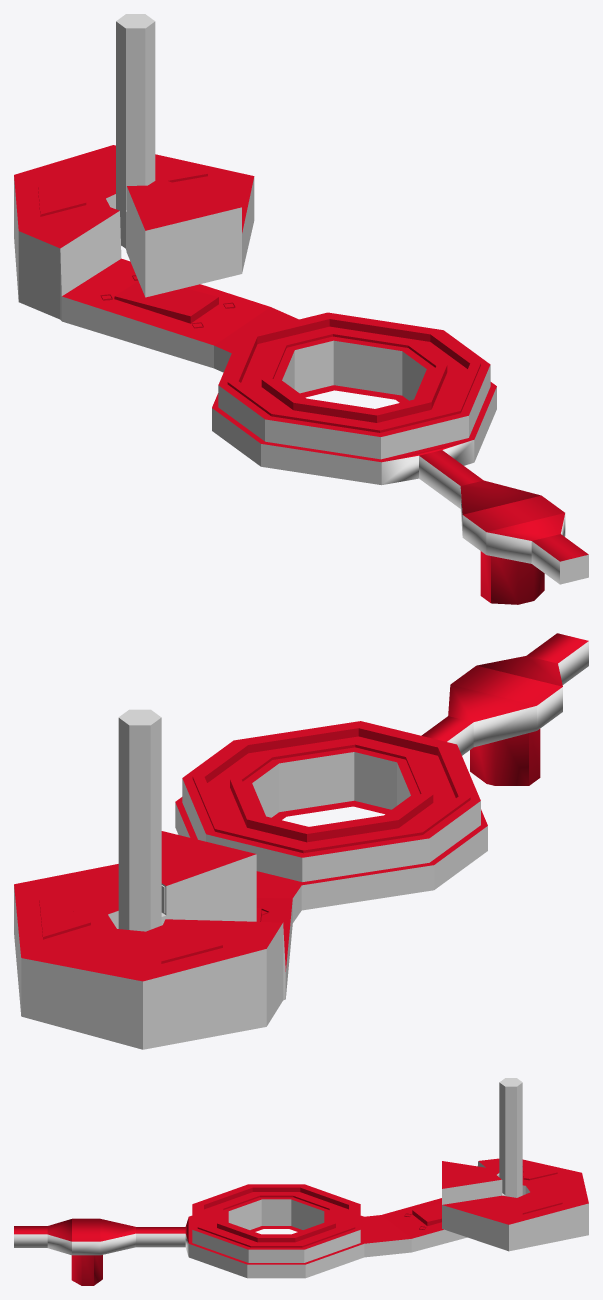
The model's file is CollectibleTrackerInterior.fbx.
The picture shows the model from 3 angles, top to bottom: view 1: azimuth 30°, elevation 25°; view 2: azimuth 150°, elevation 25°; view 3: azimuth 270°, elevation 25°; orthographic projection. The views are drawn at different scales.
Parts seen in each view (by area): view 1: CollectibleTrackerInteriorMesh; view 2: CollectibleTrackerInteriorMesh; view 3: CollectibleTrackerInteriorMesh.
Boxes of the visible parts, x1,y1,x2,y2 form: CollectibleTrackerInteriorMesh: [14, 14, 588, 604]; CollectibleTrackerInteriorMesh: [14, 633, 588, 1049]; CollectibleTrackerInteriorMesh: [14, 1078, 588, 1285].
Bounding box in the file's own units: 6031 × 7136 × 19647.
